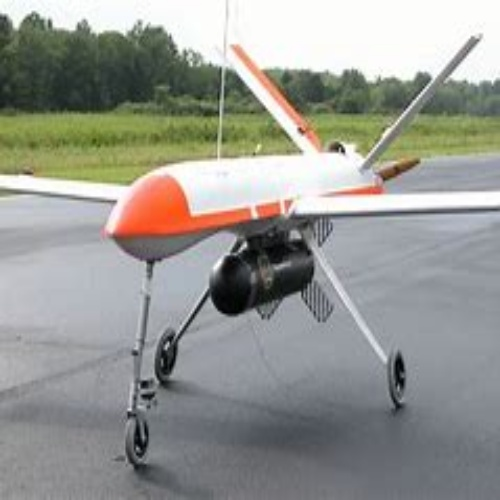uav: (3, 39, 500, 455)
